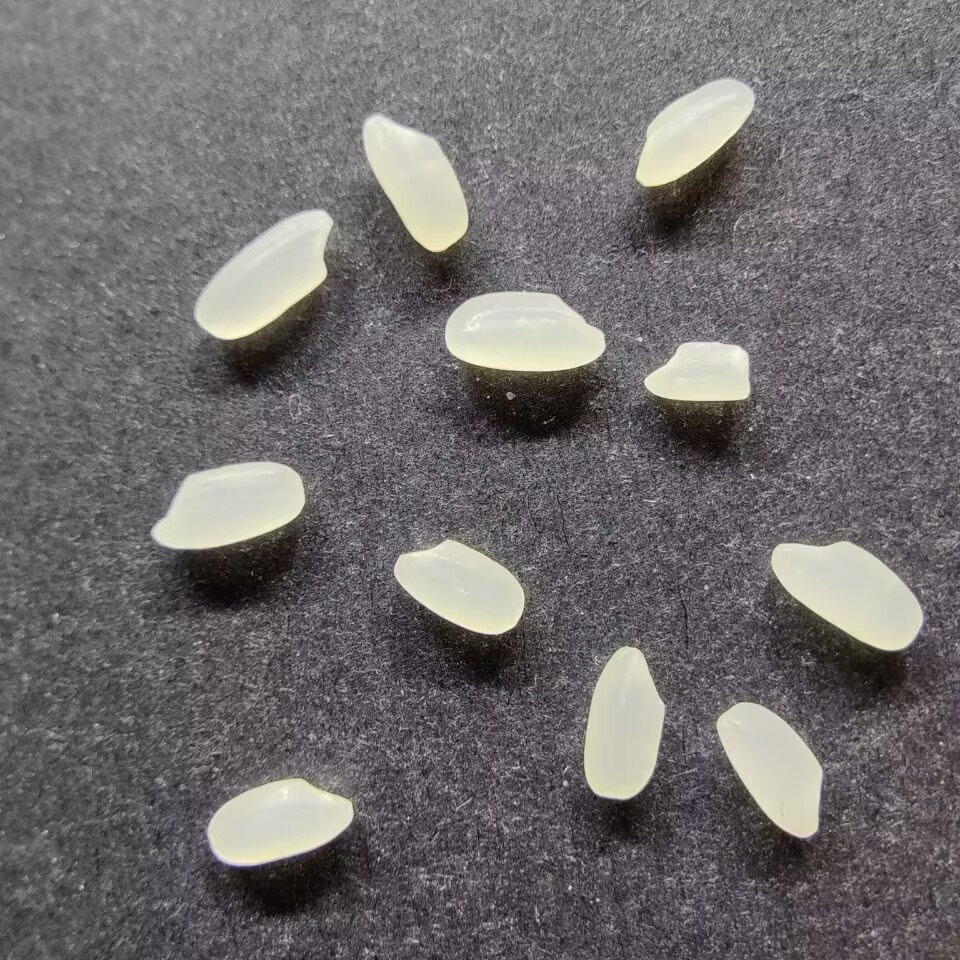broken: (642, 341, 750, 403)
rice: (193, 207, 333, 340), (769, 541, 923, 650), (361, 114, 469, 252), (715, 701, 823, 839), (150, 461, 304, 549), (444, 290, 605, 372), (634, 78, 754, 187), (392, 538, 523, 635), (582, 645, 664, 799), (207, 778, 352, 865)
